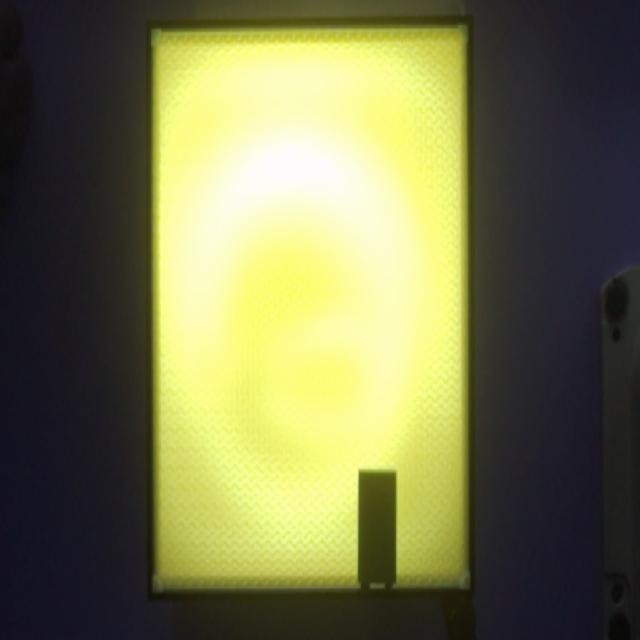bateria: (358, 469, 397, 590)
mesa: (146, 16, 476, 600)
